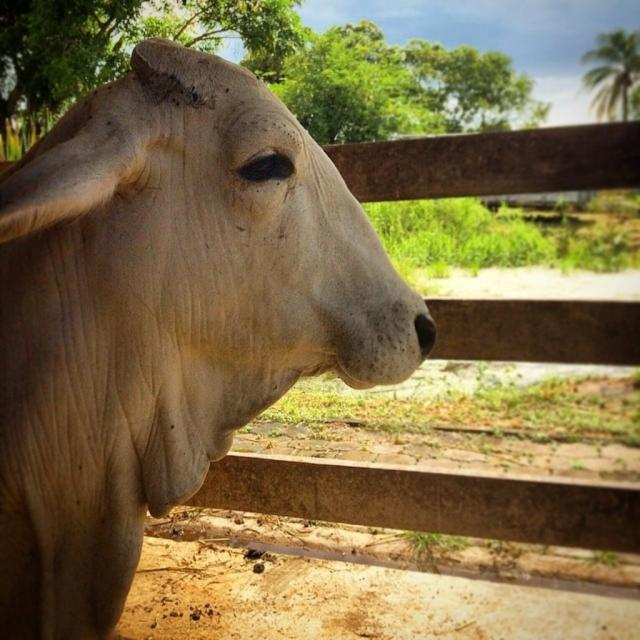Cattle: (0, 23, 437, 640)
